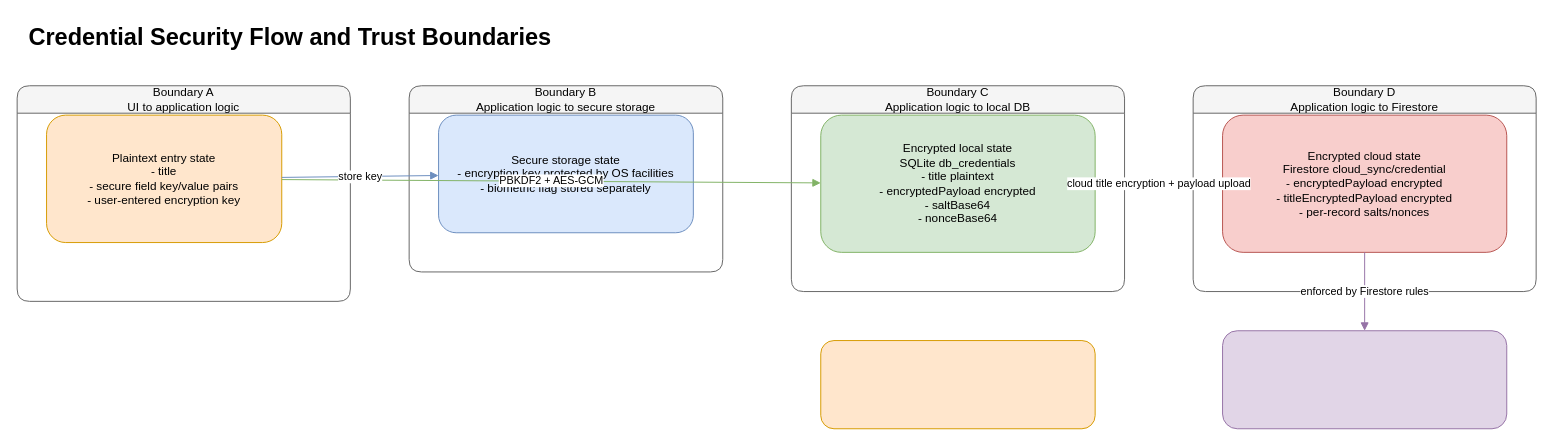
This 1553x446 diagram has some shape labels left out. Here are the shapes that lost their labels. From the top down, the centre of each, then its label:
At pixel 957 384: "Known limitation Local title remains plaintext for list/search usability".
At pixel 1364 379: "Access control Only /users/{uid}/cloud_sync/* for authenticated owner uid".
